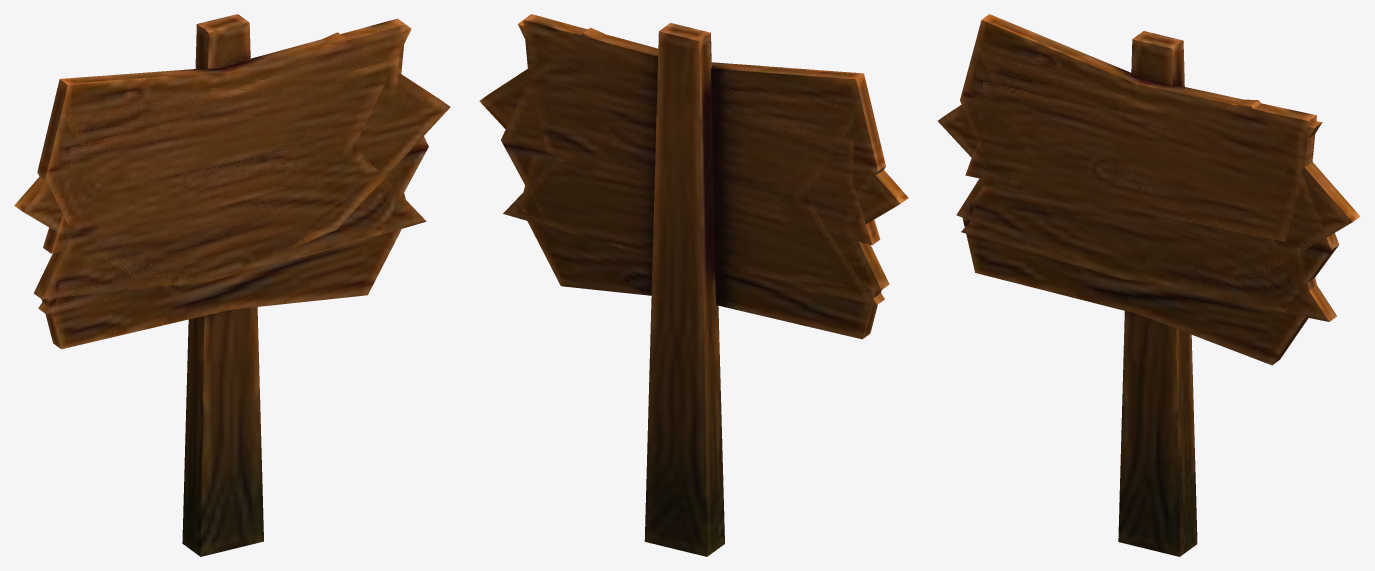
File: signs-compressed.glb
3 views of the same model, side by side, from view 1: azimuth 30°, elevation 25°; view 2: azimuth 150°, elevation 25°; view 3: azimuth 330°, elevation 25° (orthographic). The views are drawn at different scales.
Visible parts, largest first — view 1: signPlank, signDouble, signLeft, signRight; view 2: signPlank, signDouble, signRight, signLeft; view 3: signPlank, signDouble, signRight, signLeft.
Part boxes in pixels (x1,y1,x2,y2): signPlank: [33, 14, 428, 556]; signDouble: [41, 14, 407, 556]; signLeft: [14, 15, 426, 549]; signRight: [38, 14, 450, 556]; signPlank: [501, 14, 889, 556]; signDouble: [520, 23, 881, 556]; signRight: [479, 23, 884, 556]; signLeft: [503, 20, 908, 555]; signPlank: [956, 14, 1339, 556]; signDouble: [962, 32, 1316, 553]; signRight: [961, 37, 1360, 556]; signLeft: [938, 31, 1336, 555].
Bounding box in the file's own units: 1.55 × 1.8 × 0.141.
1 material, 1 textured.
